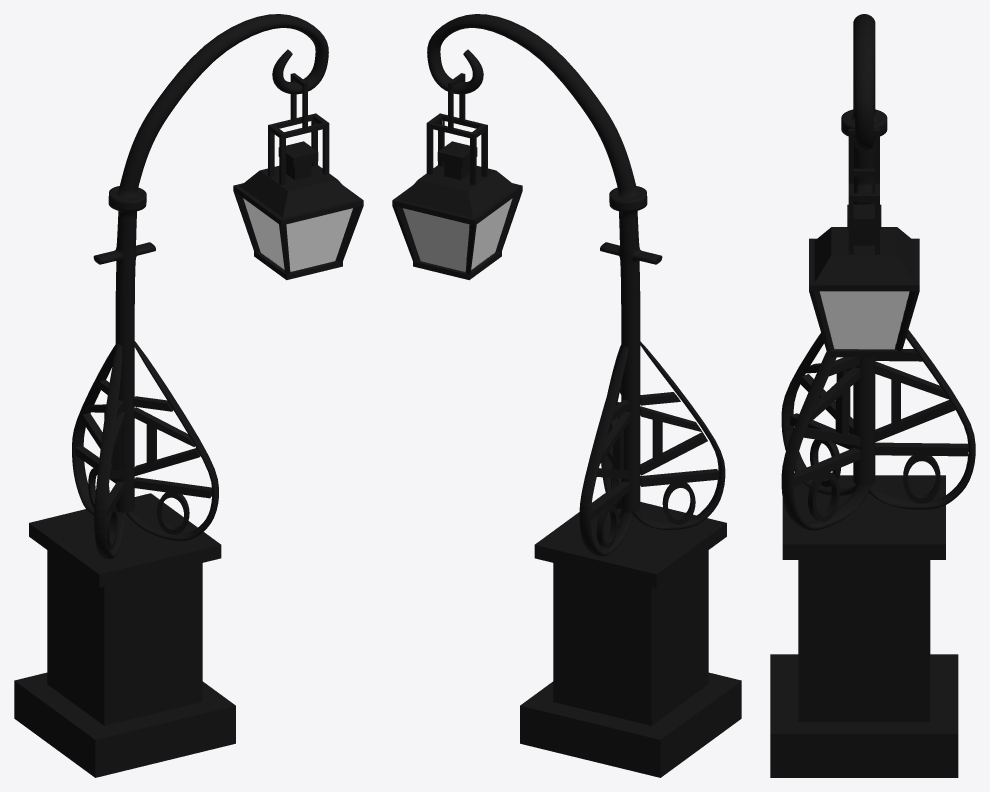
The model's file is lamp.glb.
3 views of the same model, side by side, from view 1: azimuth 30°, elevation 25°; view 2: azimuth 150°, elevation 25°; view 3: azimuth 270°, elevation 25° (orthographic). The views are drawn at different scales.
Parts seen in each view (by area): view 1: Circle_0; view 2: Circle_0; view 3: Circle_0.
Part boxes in pixels (x1,y1,x2,y2): Circle_0: [14, 14, 363, 777]; Circle_0: [392, 14, 741, 777]; Circle_0: [770, 14, 975, 777].
Size of the model in its own units: 4.05 by 9.25 by 2.18.
2 materials, 2 textured.
